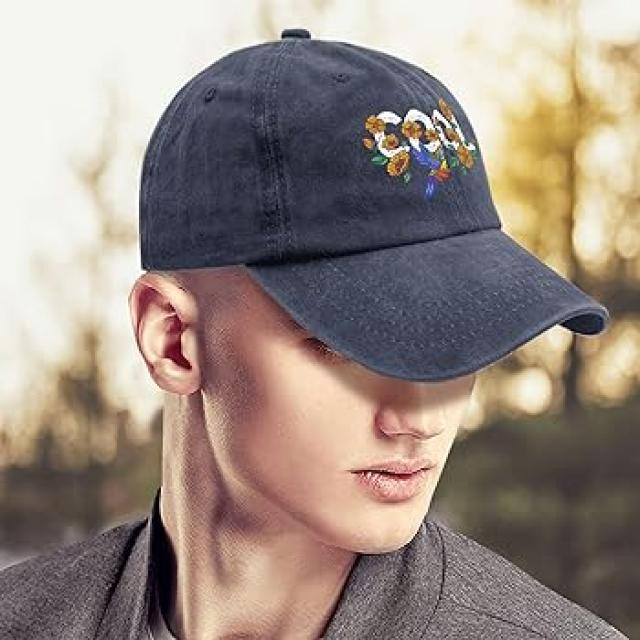Nonhelmet: (133, 26, 611, 382)
